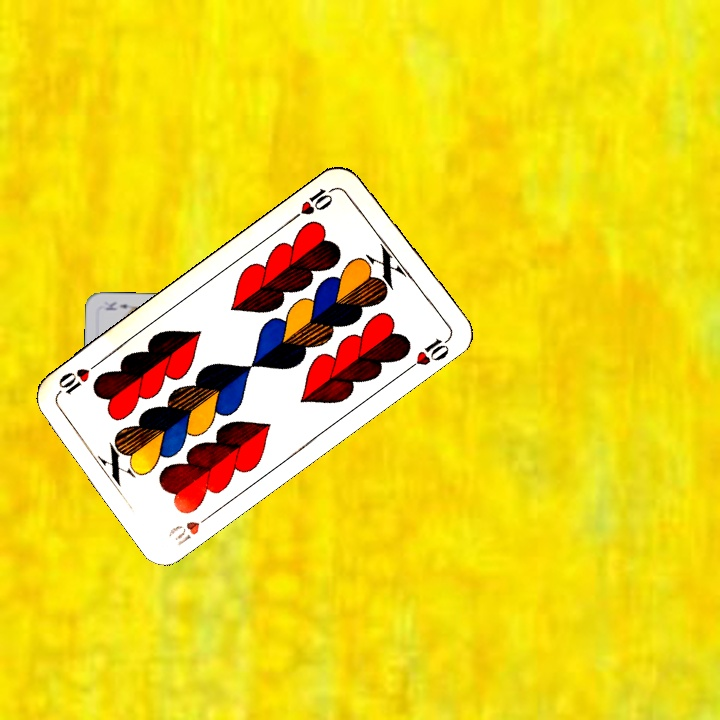H10: (163, 507, 218, 548), (288, 183, 339, 223)
